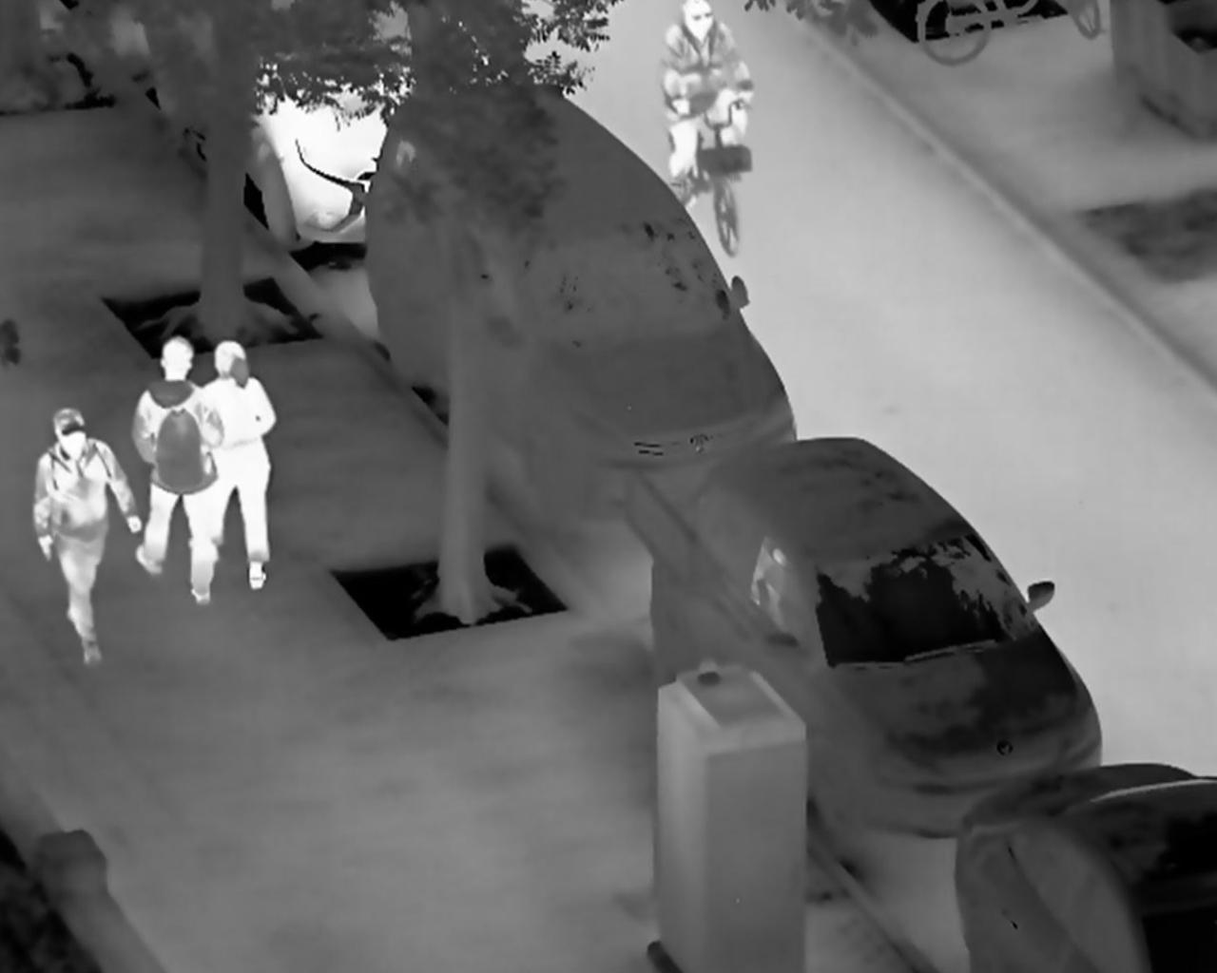person: (29, 408, 147, 666), (131, 334, 225, 605), (202, 334, 277, 593)
